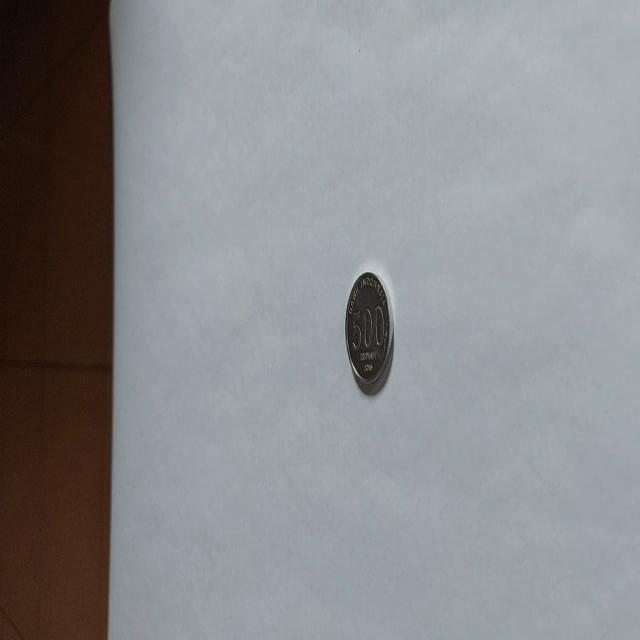lima ratus rupiah: (344, 270, 394, 394)
